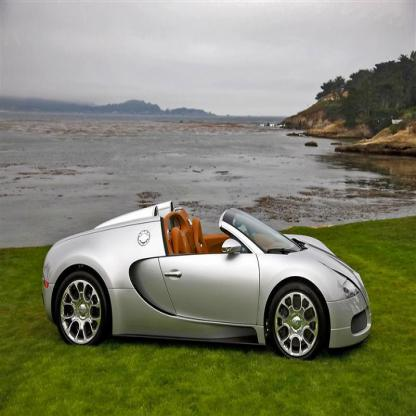Vehicle: (42, 202, 373, 364)
